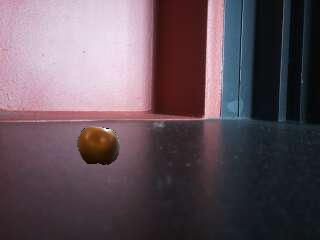Potato: (78, 127, 120, 167)
